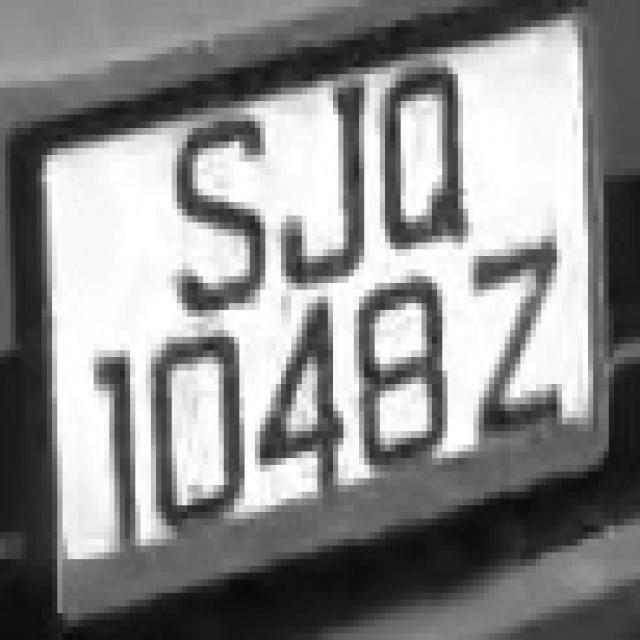0: (140, 323, 250, 560)
1: (94, 303, 151, 593)
4: (224, 283, 348, 519)
8: (343, 269, 453, 492)
J: (255, 41, 385, 296)
Q: (369, 40, 468, 283)
S: (156, 68, 271, 344)
Z: (432, 236, 577, 451)
